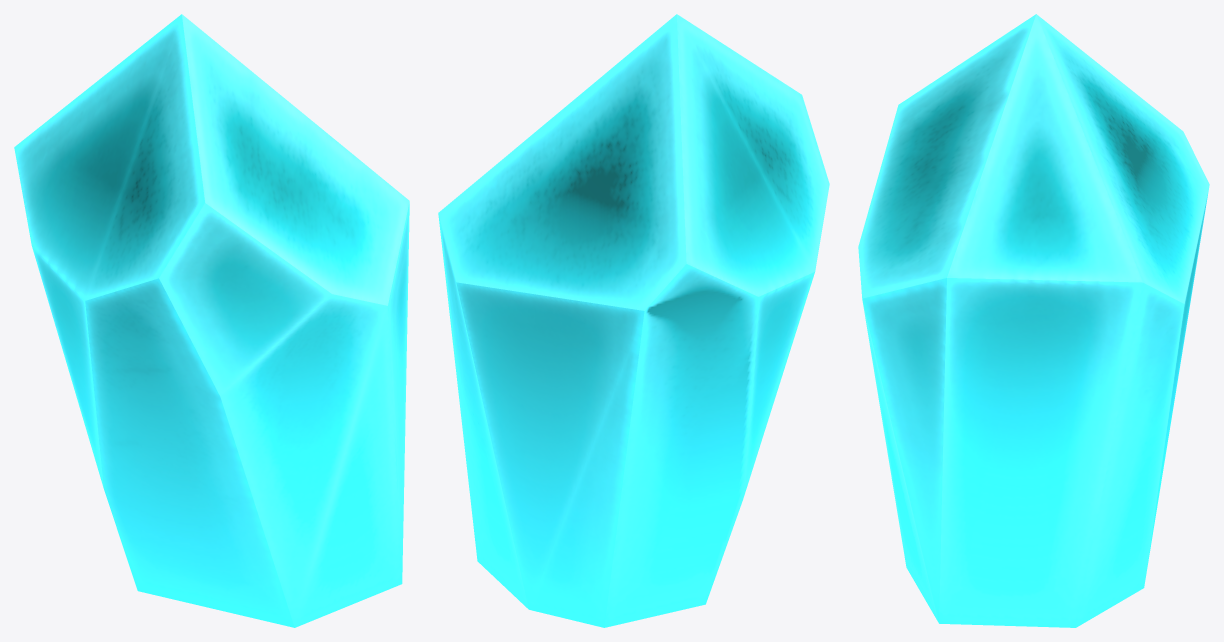
The model's file is crystal_piece_002.fbx.
The picture shows the model from 3 angles, left to right: view 1: azimuth 30°, elevation 25°; view 2: azimuth 150°, elevation 25°; view 3: azimuth 270°, elevation 25°; orthographic projection. The views are drawn at different scales.
Parts seen in each view (by area): view 1: crystal_piece_002; view 2: crystal_piece_002; view 3: crystal_piece_002.
Part boxes in pixels (<box>): crystal_piece_002: <box>14,14,409,627</box>; crystal_piece_002: <box>438,14,829,627</box>; crystal_piece_002: <box>858,14,1209,627</box>.
Size of the model in its own units: 0.6287 by 1.16 by 0.6902.
Materials: 1 (1 with a texture image).
